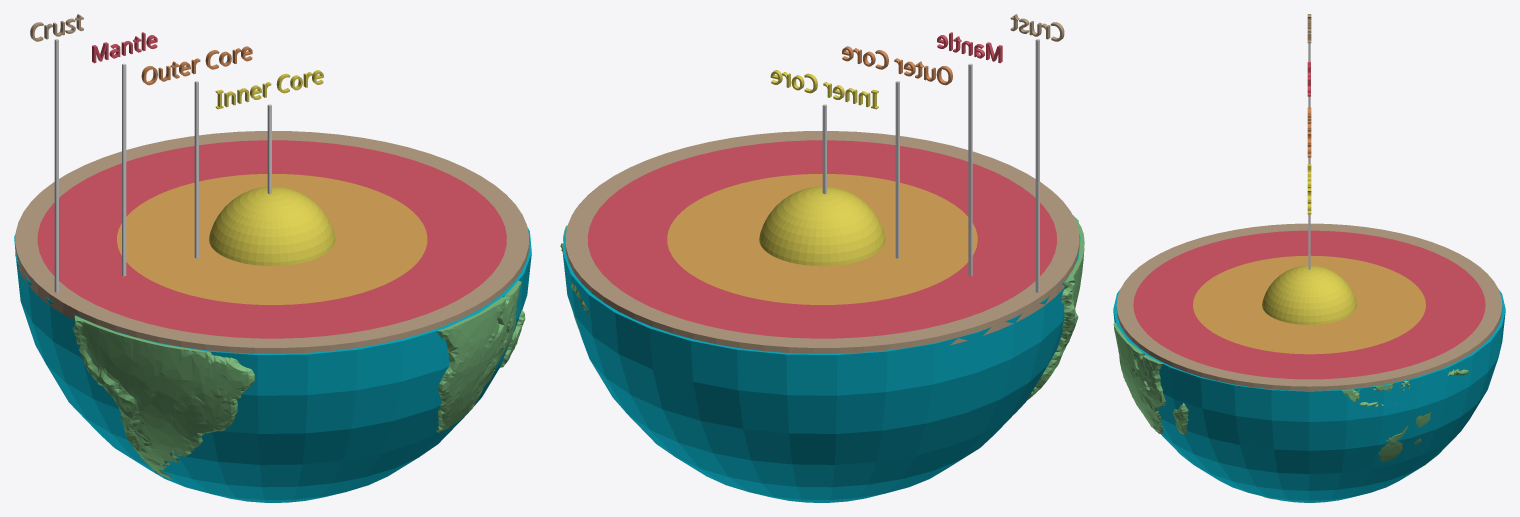
File: asset.glb
3 renders of one model, left to right at view 1: azimuth 30°, elevation 25°; view 2: azimuth 150°, elevation 25°; view 3: azimuth 270°, elevation 25°, orthographic. The views are drawn at different scales.
Parts seen in each view (by area): view 1: Mesh_Mesh_head_geo.001_lambert2SG.001; view 2: Mesh_Mesh_head_geo.001_lambert2SG.001; view 3: Mesh_Mesh_head_geo.001_lambert2SG.001.
Part boxes in pixels (x1=…): Mesh_Mesh_head_geo.001_lambert2SG.001: x1=14, y1=14, x2=531, y2=502; Mesh_Mesh_head_geo.001_lambert2SG.001: x1=560, y1=14, x2=1084, y2=502; Mesh_Mesh_head_geo.001_lambert2SG.001: x1=1113, y1=14, x2=1505, y2=502.
Bounding box in the file's own units: 83.04 × 87.55 × 80.87.
